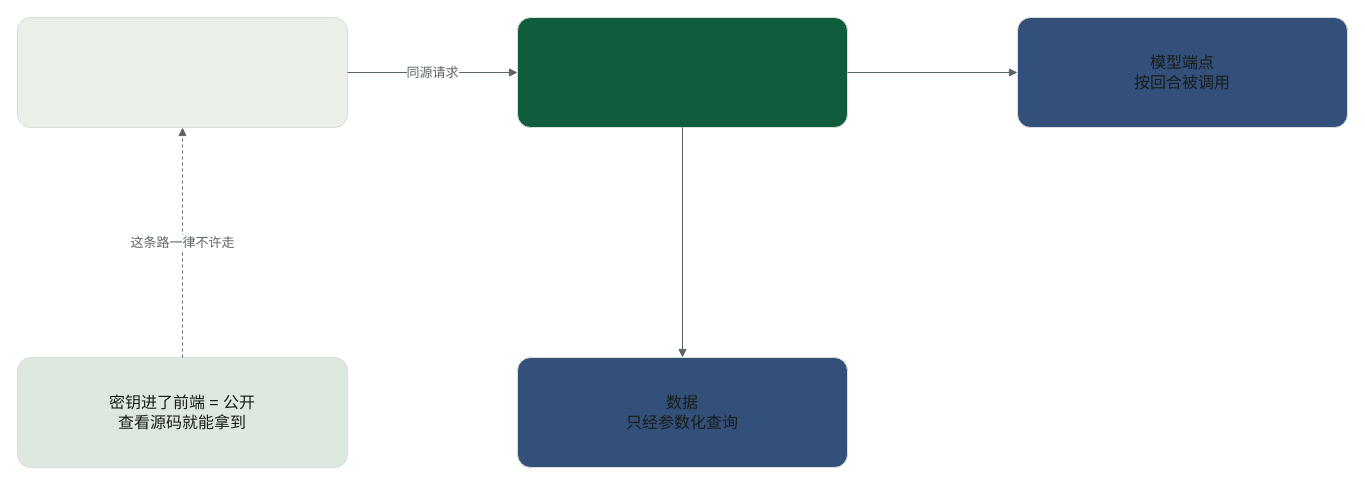
Image size: 1365x485. Some labels were removed from this diagram. The shapes that lost their labels are listed below. From the top down, each one's box as (x1, y1, x2, y2) in pixels, then its label:
(16, 16, 348, 128): 浏览器 只拿得到会话 id 与文本
(516, 16, 848, 128): 后端 service 唯一持有密钥的一层
